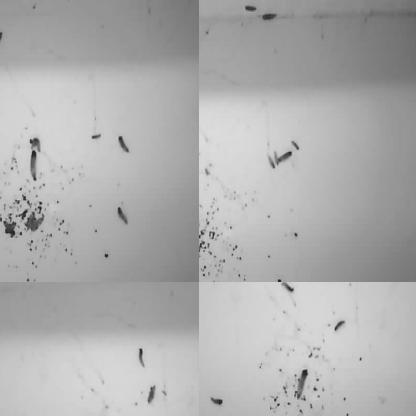PtecticusTenebrifer: (296, 370, 308, 399), (29, 150, 38, 182), (116, 206, 130, 226), (118, 135, 130, 156), (276, 151, 294, 164), (199, 155, 208, 177), (147, 385, 157, 404), (29, 138, 41, 152), (0, 201, 7, 225), (262, 12, 278, 22), (280, 282, 294, 293), (199, 149, 208, 166), (334, 319, 346, 331), (210, 396, 224, 406), (199, 161, 208, 175), (138, 349, 145, 366), (291, 140, 300, 152), (89, 132, 102, 140), (199, 247, 204, 267), (59, 282, 79, 287), (244, 5, 257, 12), (199, 16, 207, 27), (156, 282, 173, 287), (270, 282, 286, 287), (0, 30, 4, 48), (0, 182, 3, 206), (199, 49, 202, 71), (354, 282, 370, 286), (199, 194, 204, 206), (0, 0, 8, 6), (0, 282, 7, 288), (199, 0, 204, 7), (199, 282, 206, 287)
